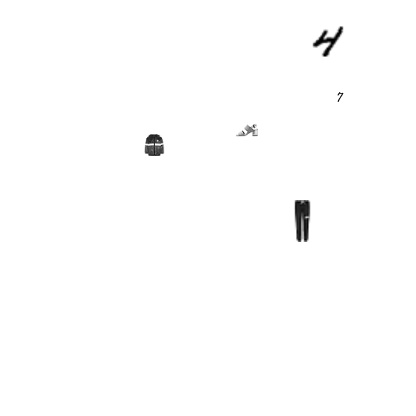4: (307, 19, 349, 61)
7: (333, 89, 347, 103)
Coat: (143, 134, 165, 156)
Sandal: (236, 119, 258, 141)
Trouser: (280, 200, 322, 242)
